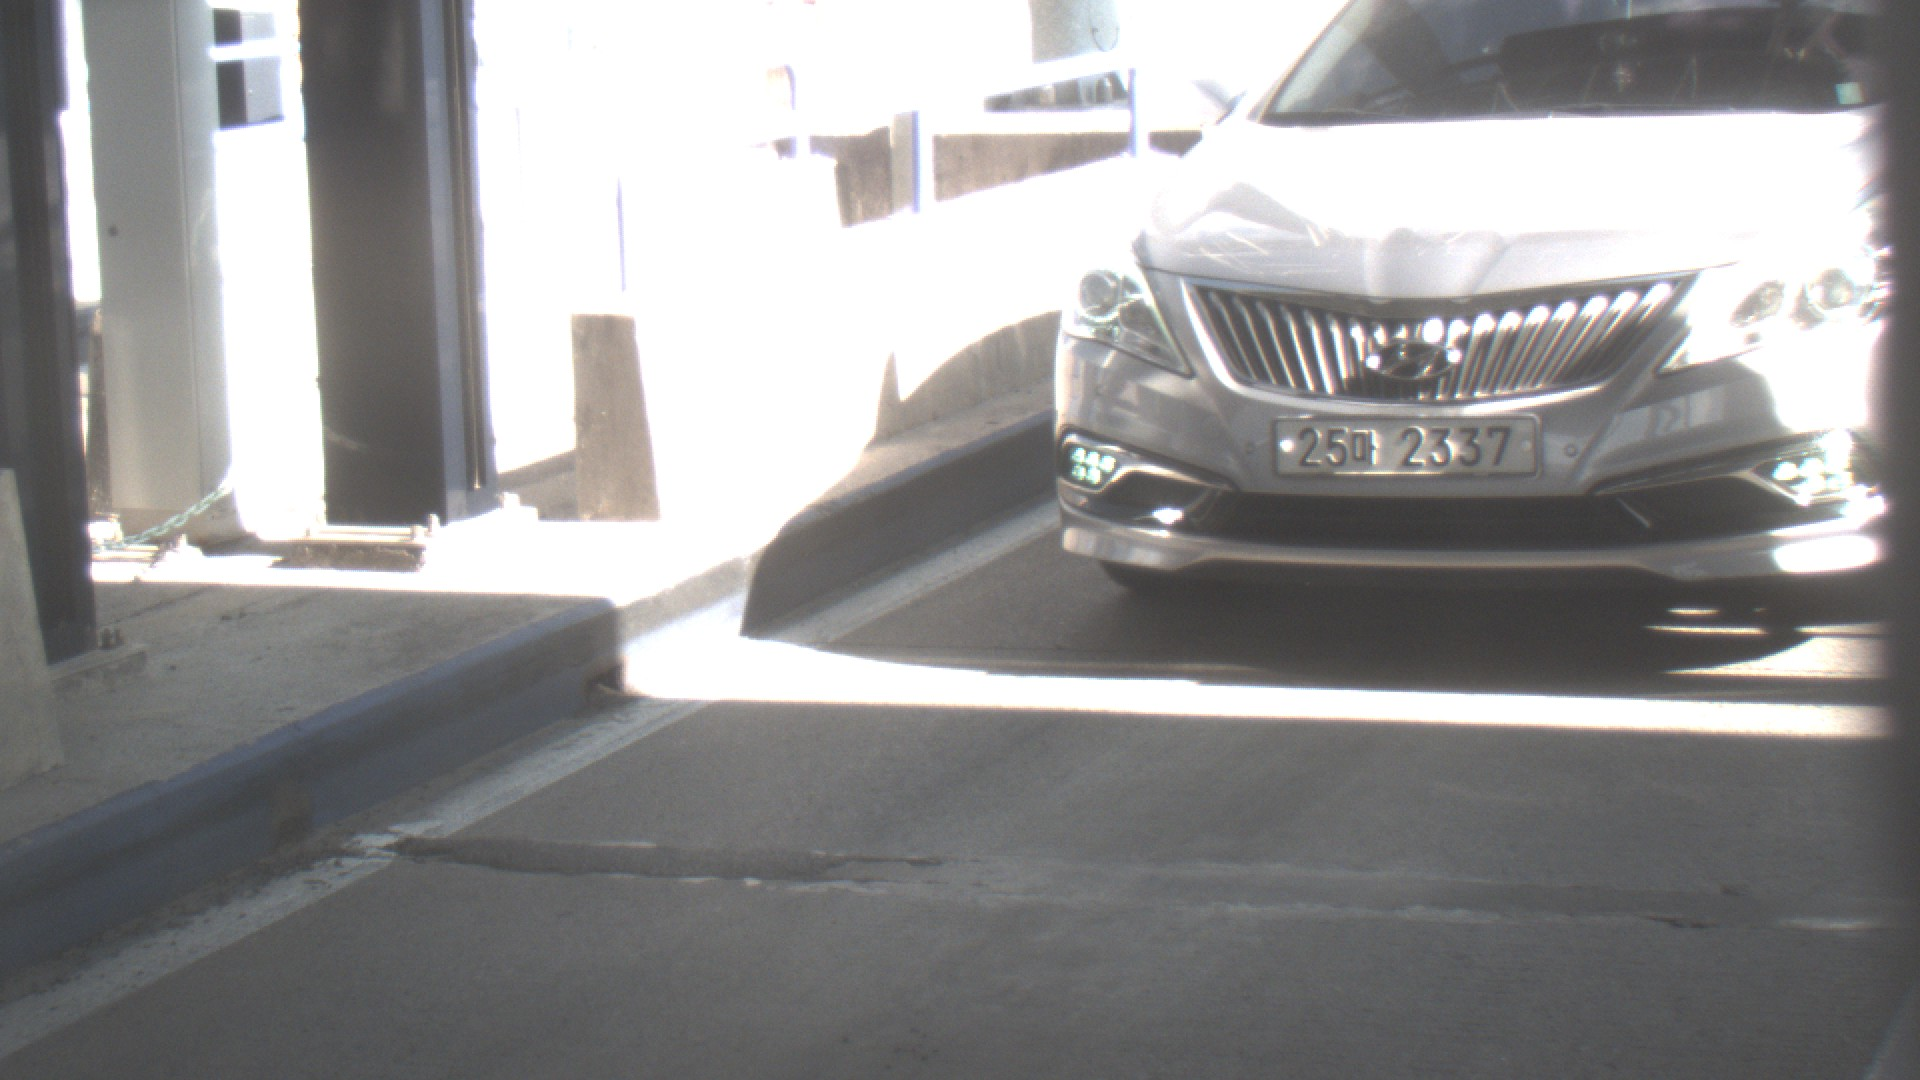car: (1037, 1, 1891, 601)
plate: (1267, 411, 1545, 483)
